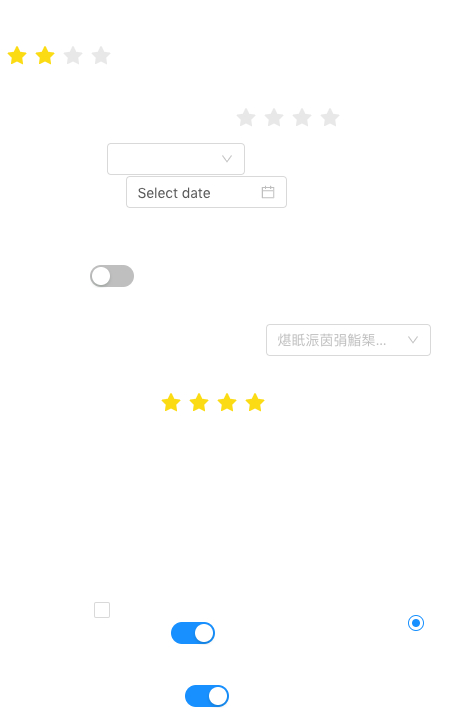Checkbox: (94, 599, 110, 620)
DatePicker: (126, 176, 287, 208)
Radio: (408, 612, 424, 632)
Rate: (7, 39, 127, 71), (161, 386, 281, 418), (236, 101, 356, 133)
Select: (266, 324, 431, 356), (107, 143, 245, 175)
Switch: (171, 621, 215, 645), (185, 684, 229, 708), (90, 264, 134, 288)
